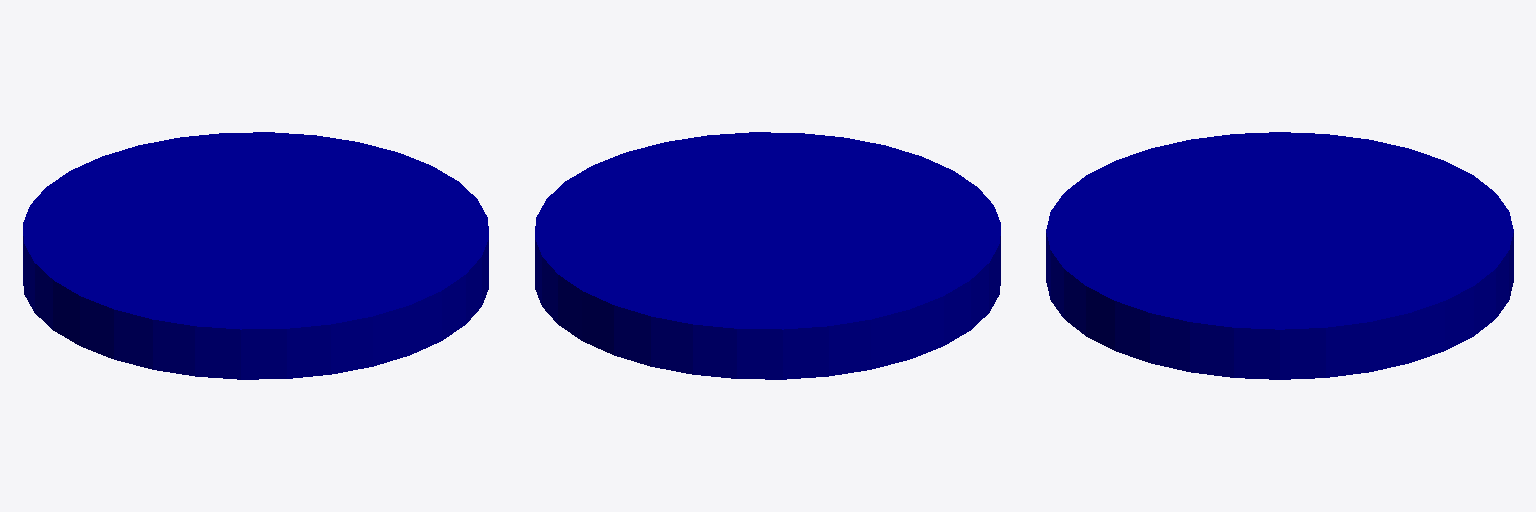
The model's file is puck.obj.
3 renders of one model, left to right at view 1: azimuth 30°, elevation 25°; view 2: azimuth 150°, elevation 25°; view 3: azimuth 270°, elevation 25°, orthographic.
Visible parts, largest first — view 1: Cylinder_Cylinder.001; view 2: Cylinder_Cylinder.001; view 3: Cylinder_Cylinder.001.
Boxes of the visible parts, x1,y1,x2,y2 form: Cylinder_Cylinder.001: [23, 132, 488, 379]; Cylinder_Cylinder.001: [535, 132, 1000, 379]; Cylinder_Cylinder.001: [1046, 132, 1513, 379].
Size of the model in its own units: 0.6269 by 0.0743 by 0.6269.